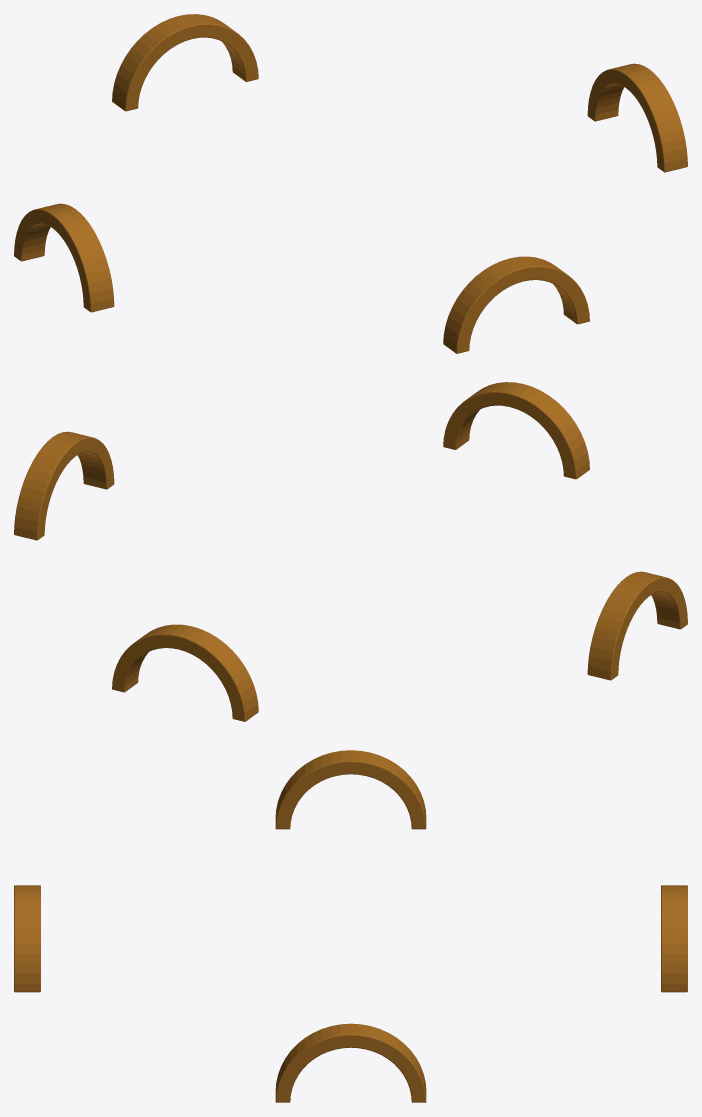
Rendered from Arena_Gates.obj.
The picture shows the model from 3 angles, top to bottom: view 1: azimuth 30°, elevation 25°; view 2: azimuth 150°, elevation 25°; view 3: azimuth 270°, elevation 25°; orthographic projection. The views are drawn at different scales.
Visible parts, largest first — view 1: Gate_Arch_4, Gate_Arch_2, Gate_Arch_1, Gate_Arch_3; view 2: Gate_Arch_2, Gate_Arch_4, Gate_Arch_1, Gate_Arch_3; view 3: Gate_Arch_3, Gate_Arch_1, Gate_Arch_2, Gate_Arch_4.
Boxes of the visible parts, x1,y1,x2,y2 form: Gate_Arch_4: (443,256,589,353); Gate_Arch_2: (112,14,258,111); Gate_Arch_1: (587,63,687,172); Gate_Arch_3: (14,203,114,312); Gate_Arch_2: (112,624,258,721); Gate_Arch_4: (443,382,589,479); Gate_Arch_1: (14,431,114,540); Gate_Arch_3: (587,571,687,680); Gate_Arch_3: (275,750,426,829); Gate_Arch_1: (275,1023,426,1102); Gate_Arch_2: (661,885,687,992); Gate_Arch_4: (14,885,40,992).
Size of the model in its own units: 25 by 2.8 by 25.
